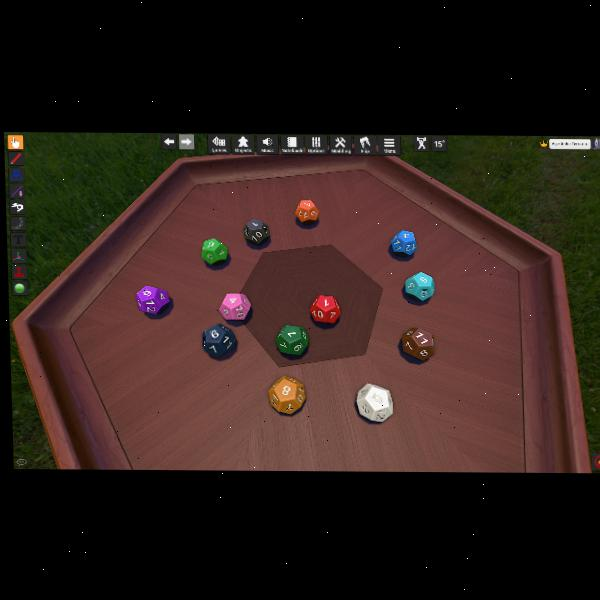d12: (269, 375, 307, 415), (354, 382, 391, 421), (201, 324, 235, 357), (401, 326, 433, 360), (275, 324, 309, 356), (136, 285, 171, 315), (404, 272, 434, 302), (309, 294, 341, 322), (219, 293, 249, 321), (200, 237, 228, 266), (243, 218, 270, 245), (390, 230, 416, 258), (295, 199, 319, 224)
